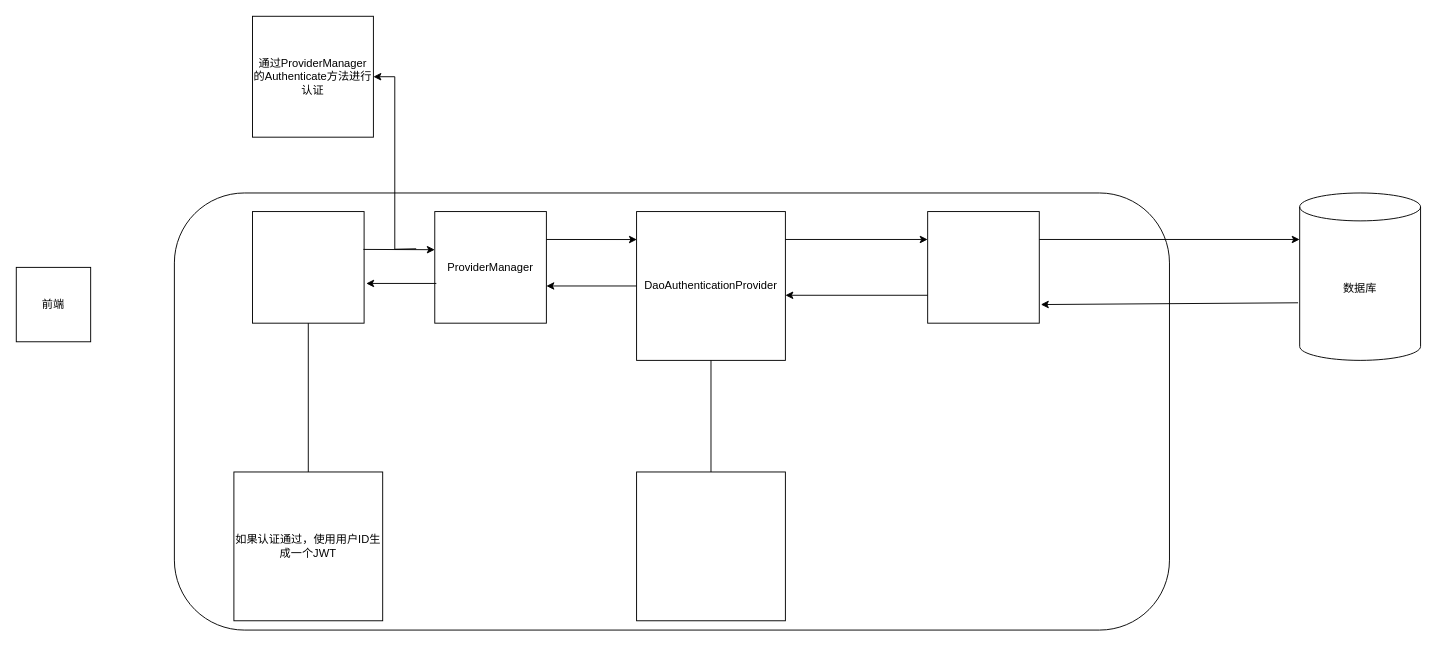
This 1437x646 diagram has some shape labels left out. Here are the shapes that lost their labels. From the top down, the centre of each, then its label:
At pixel 308 267: "登录接口".
At pixel 983 267: "自定义 UserDetailsService".
At pixel 710 546: "获取到UserDetailsService返回的信息后，通过PasswordEncoder进行密码校验".
